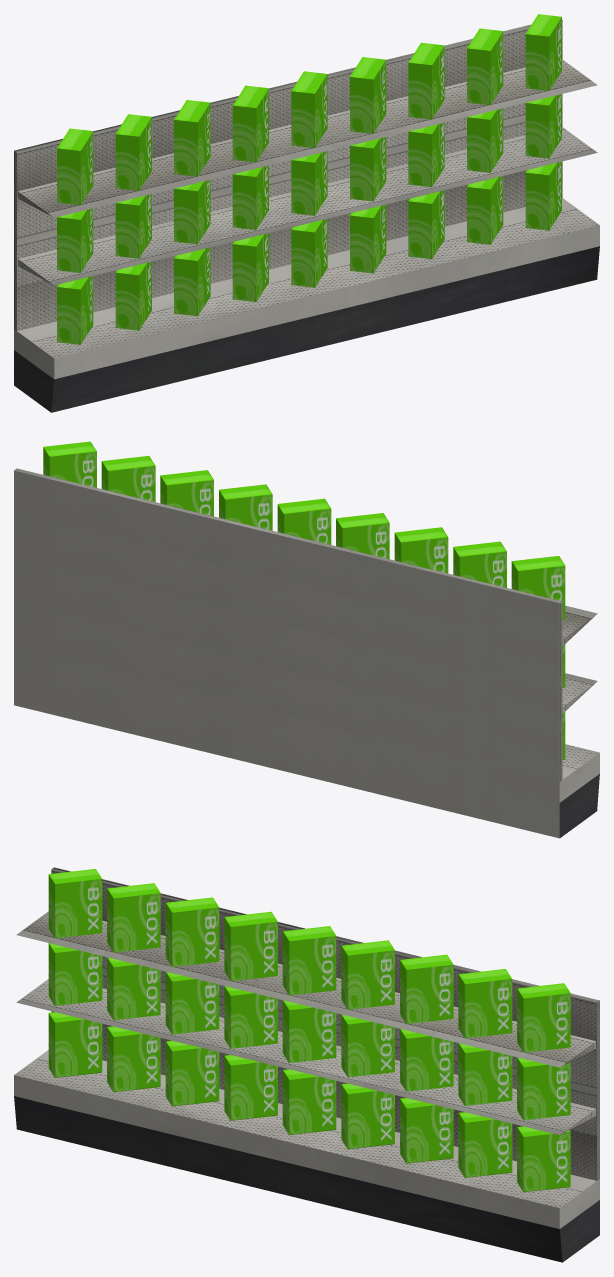
File: ExBox_Shelf.fbx
The picture shows the model from 3 angles, top to bottom: view 1: azimuth 30°, elevation 25°; view 2: azimuth 150°, elevation 25°; view 3: azimuth 330°, elevation 25°; orthographic projection.
Visible parts, largest first — view 1: Ex_Box_Shelf; view 2: Ex_Box_Shelf; view 3: Ex_Box_Shelf.
Boxes of the visible parts, <box> form: Ex_Box_Shelf: <box>14,14,599,412</box>; Ex_Box_Shelf: <box>14,441,599,838</box>; Ex_Box_Shelf: <box>14,867,599,1262</box>.
Size of the model in its own units: 4.66 by 2.04 by 0.5946.
